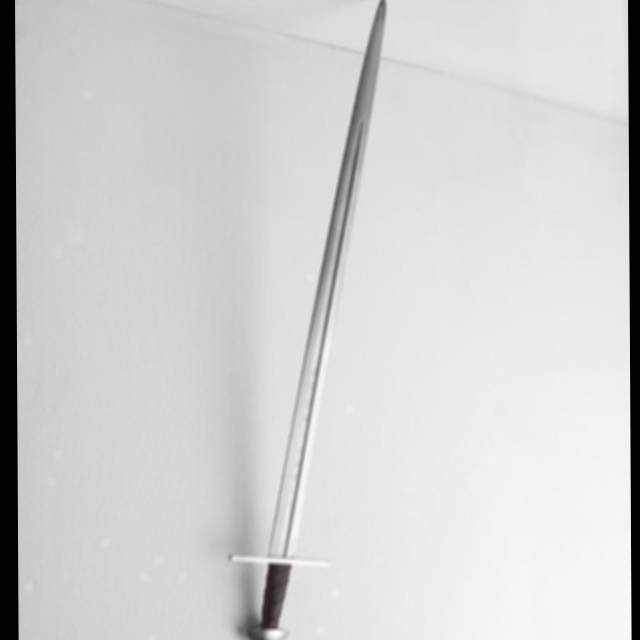Sharp-Object: (233, 0, 395, 640)
